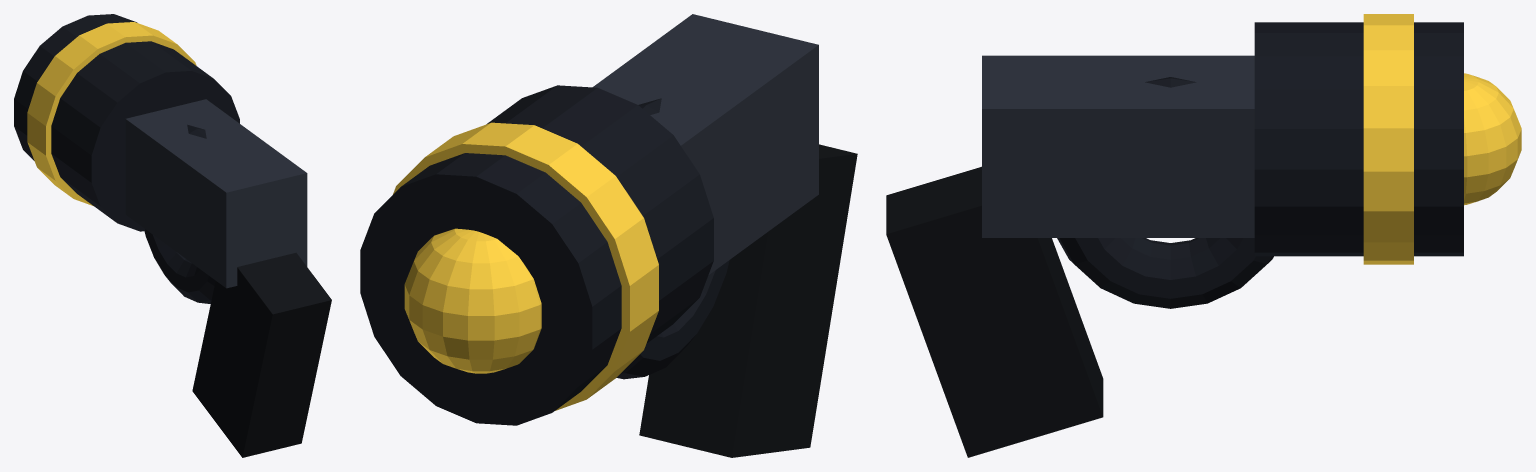
Rendered from grenade.glb.
3 renders of one model, left to right at view 1: azimuth 30°, elevation 25°; view 2: azimuth 150°, elevation 25°; view 3: azimuth 270°, elevation 25°, orthographic. The views are drawn at different scales.
Parts seen in each view (by area): view 1: Cube, Cube.001, Cylinder, Cylinder.001, Torus; view 2: Cylinder, Cube.001, Cube, Sphere, Cylinder.001, Torus; view 3: Cube, Cube.001, Cylinder, Cylinder.001, Torus, Sphere.
Boxes of the visible parts, box(x1,y1,x2,y2) form: Cube: box(125, 99, 307, 288); Cube.001: box(192, 252, 331, 457); Cylinder: box(14, 14, 239, 231); Cylinder.001: box(27, 22, 196, 206); Torus: box(144, 124, 215, 303); Cylinder: box(360, 85, 713, 425); Cube.001: box(639, 144, 857, 457); Cube: box(593, 14, 818, 274); Sphere: box(404, 228, 541, 373); Cylinder.001: box(393, 122, 658, 410); Torus: box(616, 98, 729, 379); Cube: box(982, 55, 1254, 237); Cube.001: box(886, 166, 1103, 457); Cylinder: box(1254, 22, 1463, 256); Cylinder.001: box(1363, 14, 1413, 264); Torus: box(1057, 77, 1273, 308); Sphere: box(1464, 73, 1521, 205).
Size of the model in its own units: 0.5909 by 1.09 by 1.52.
